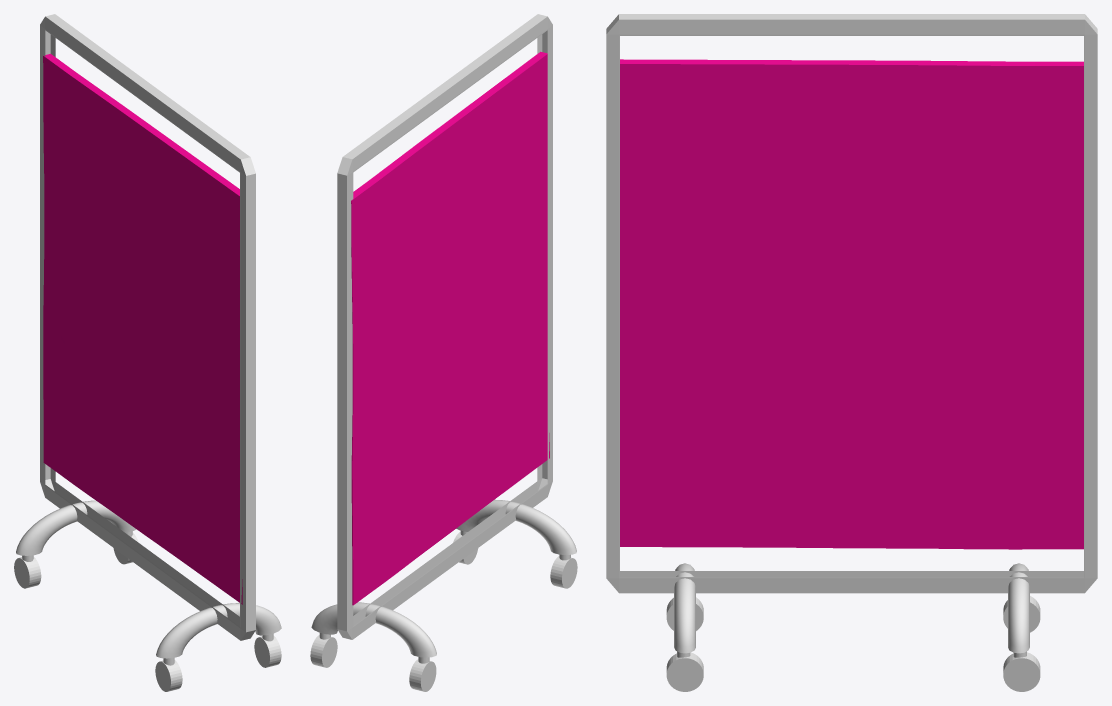
Rendered from bedscreen2.fbx.
3 renders of one model, left to right at view 1: azimuth 30°, elevation 25°; view 2: azimuth 150°, elevation 25°; view 3: azimuth 270°, elevation 25°, orthographic. The views are drawn at different scales.
Visible parts, largest first — view 1: Plane, Cube, Cylinder.003, Cylinder.002; view 2: Plane, Cube, Cylinder.002, Cylinder.003; view 3: Plane, Cube, Cylinder.002, Cylinder.003.
Part boxes in pixels (<box>): Plane: <box>43,53,242,604</box>; Cube: <box>40,14,255,640</box>; Cylinder.003: <box>155,603,281,691</box>; Cylinder.002: <box>14,500,138,588</box>; Plane: <box>351,51,549,605</box>; Cube: <box>337,14,552,639</box>; Cylinder.002: <box>310,602,436,691</box>; Cylinder.003: <box>453,499,577,588</box>; Plane: <box>620,59,1083,549</box>; Cube: <box>606,14,1097,593</box>; Cylinder.002: <box>1003,563,1040,691</box>; Cylinder.003: <box>666,563,703,691</box>.
Bounding box in the file's own units: 184 × 762 × 528.
Materials: 4 (1 with a texture image).
